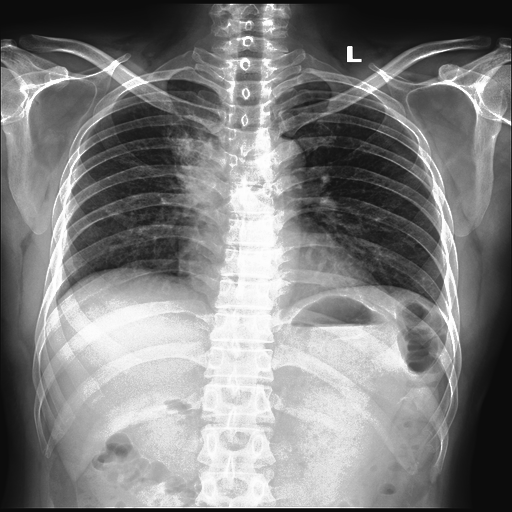ILD: (173, 128, 219, 206)
Other lesion: (173, 132, 218, 198)
Pleural thickening: (167, 132, 227, 209)
Pulmonary fibrosis: (167, 132, 227, 209)
